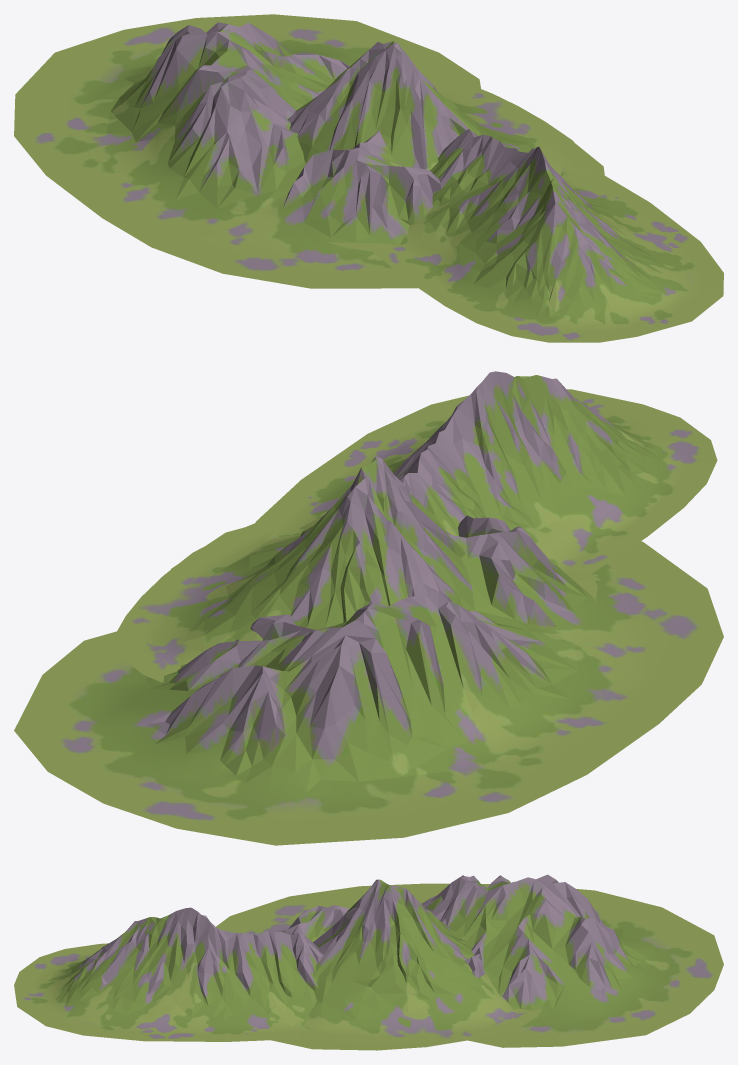
Rendered from build_mountain_D 1.FBX.
3 views of the same model, one above another, from view 1: azimuth 30°, elevation 25°; view 2: azimuth 150°, elevation 25°; view 3: azimuth 270°, elevation 25° (orthographic). The views are drawn at different scales.
Visible parts, largest first — view 1: mountain_D_grass_LOD0_0, mountain_C_grass_LOD0_0, mountain_D_grass_edge_LOD0_0, mountain_B_grass_LOD0_0, mountain_C_grass_edge_LOD0_0, mountain_B_grass_edge_LOD0_0; view 2: mountain_D_grass_LOD0_0, mountain_C_grass_LOD0_0, mountain_B_grass_LOD0_0, mountain_D_grass_edge_LOD0_0, mountain_C_grass_edge_LOD0_0, mountain_B_grass_edge_LOD0_0; view 3: mountain_D_grass_LOD0_0, mountain_C_grass_LOD0_0, mountain_B_grass_LOD0_0, mountain_D_grass_edge_LOD0_0, mountain_C_grass_edge_LOD0_0, mountain_B_grass_edge_LOD0_0.
Boxes of the visible parts, <box> form: mountain_D_grass_LOD0_0: <box>54,22,442,271</box>; mountain_C_grass_LOD0_0: <box>388,129,702,333</box>; mountain_D_grass_edge_LOD0_0: <box>14,14,604,288</box>; mountain_B_grass_LOD0_0: <box>288,41,577,245</box>; mountain_C_grass_edge_LOD0_0: <box>372,166,723,342</box>; mountain_B_grass_edge_LOD0_0: <box>303,75,595,251</box>; mountain_D_grass_LOD0_0: <box>55,515,674,826</box>; mountain_C_grass_LOD0_0: <box>271,371,691,571</box>; mountain_B_grass_LOD0_0: <box>139,456,569,672</box>; mountain_D_grass_edge_LOD0_0: <box>14,527,723,845</box>; mountain_C_grass_edge_LOD0_0: <box>255,389,717,573</box>; mountain_B_grass_edge_LOD0_0: <box>116,523,597,682</box>; mountain_D_grass_LOD0_0: <box>244,874,693,1035</box>; mountain_C_grass_LOD0_0: <box>31,907,323,1034</box>; mountain_B_grass_LOD0_0: <box>300,879,526,1037</box>; mountain_D_grass_edge_LOD0_0: <box>216,883,723,1050</box>; mountain_C_grass_edge_LOD0_0: <box>14,943,320,1041</box>; mountain_B_grass_edge_LOD0_0: <box>299,1009,542,1043</box>.
Bounding box in the file's own units: 28.44 × 8.39 × 51.09.
